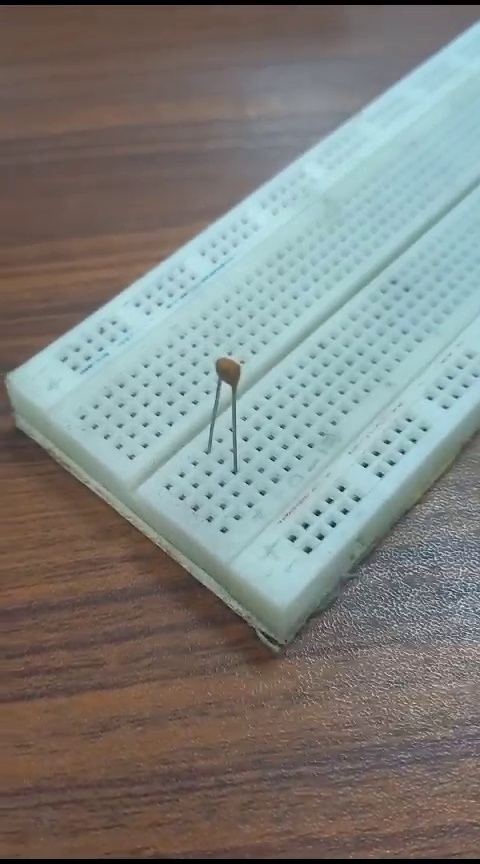ceramic capacitor: (202, 356, 262, 465)
